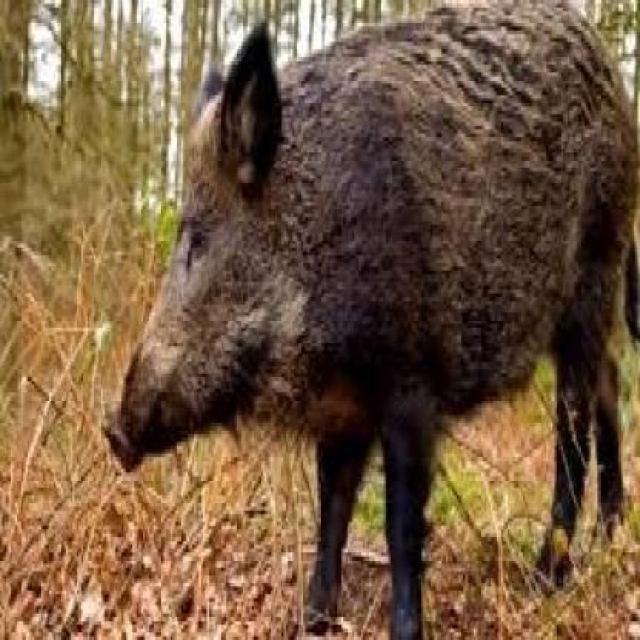wildboar: (98, 0, 640, 640)
